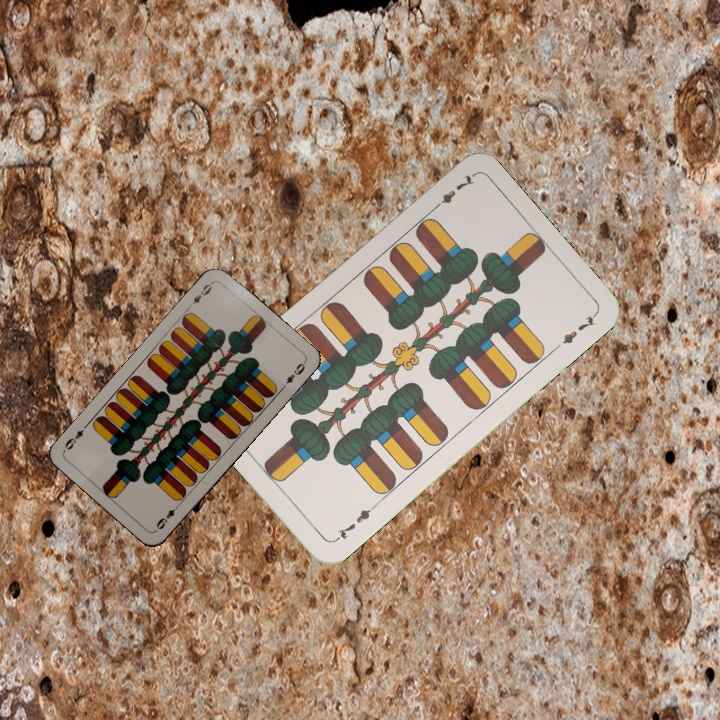E7: (330, 501, 379, 545), (428, 170, 477, 214)
E9: (184, 278, 215, 311), (152, 500, 182, 533)
